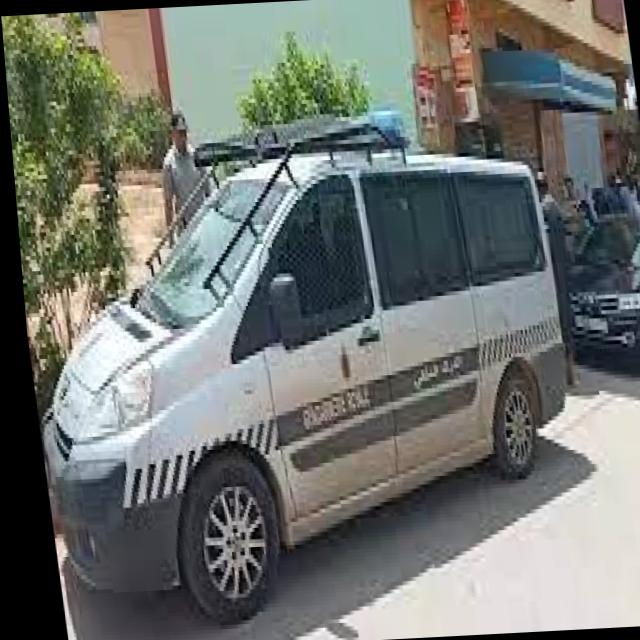gendarme car: (6, 96, 597, 621)
